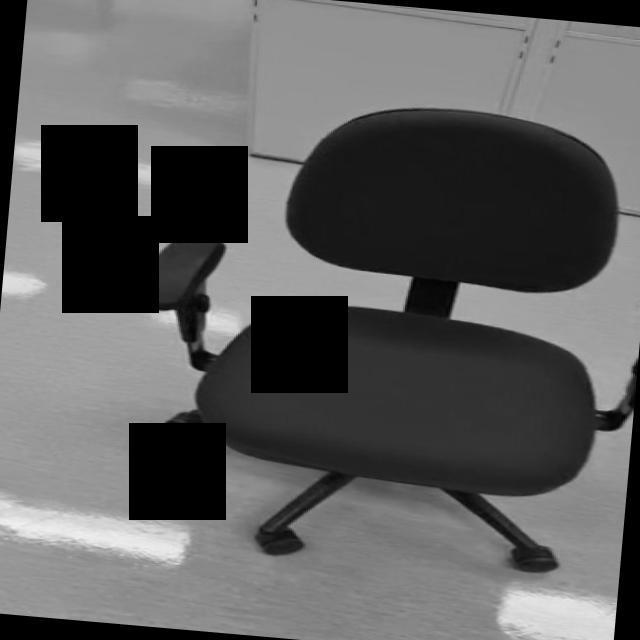chair: (112, 81, 640, 584)
